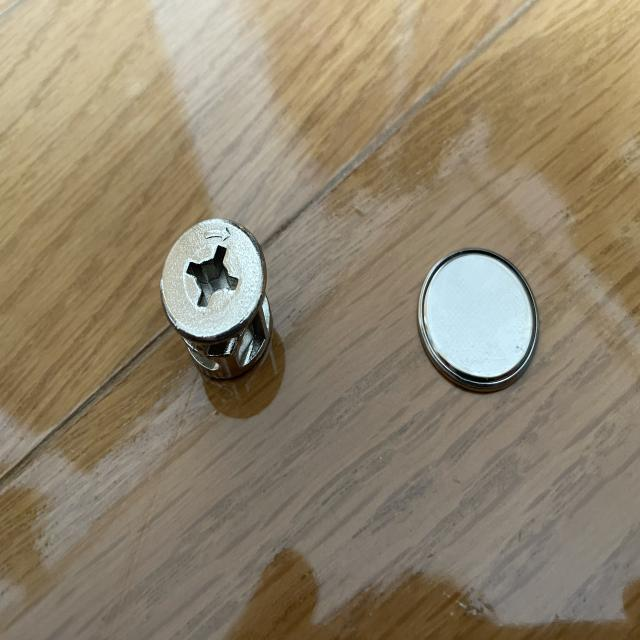COIN: (415, 247, 540, 394)
